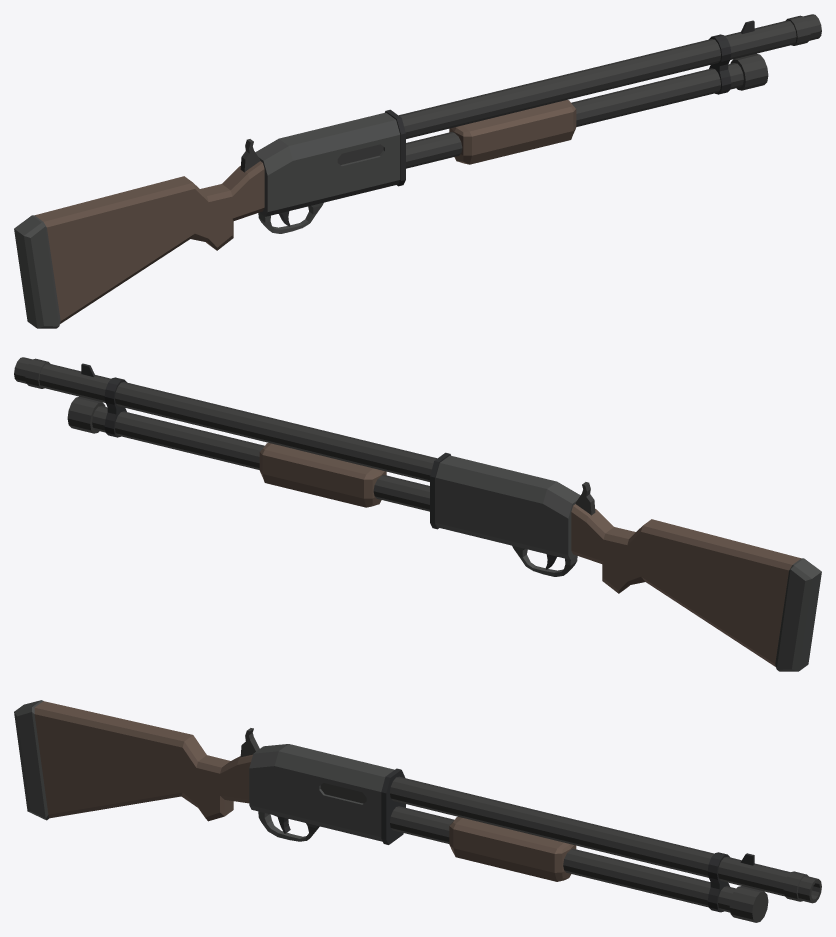
The picture shows the model from 3 angles, top to bottom: view 1: azimuth 30°, elevation 25°; view 2: azimuth 150°, elevation 25°; view 3: azimuth 330°, elevation 25°; orthographic projection.
Parts seen in each view (by area): view 1: Shotgun_3; view 2: Shotgun_3; view 3: Shotgun_3.
Boxes of the visible parts, bbox=[...] form: Shotgun_3: bbox=[14, 14, 821, 328]; Shotgun_3: bbox=[14, 357, 821, 671]; Shotgun_3: bbox=[14, 700, 821, 922].
Bounding box in the file's own units: 5.78 × 0.9427 × 0.2465.
